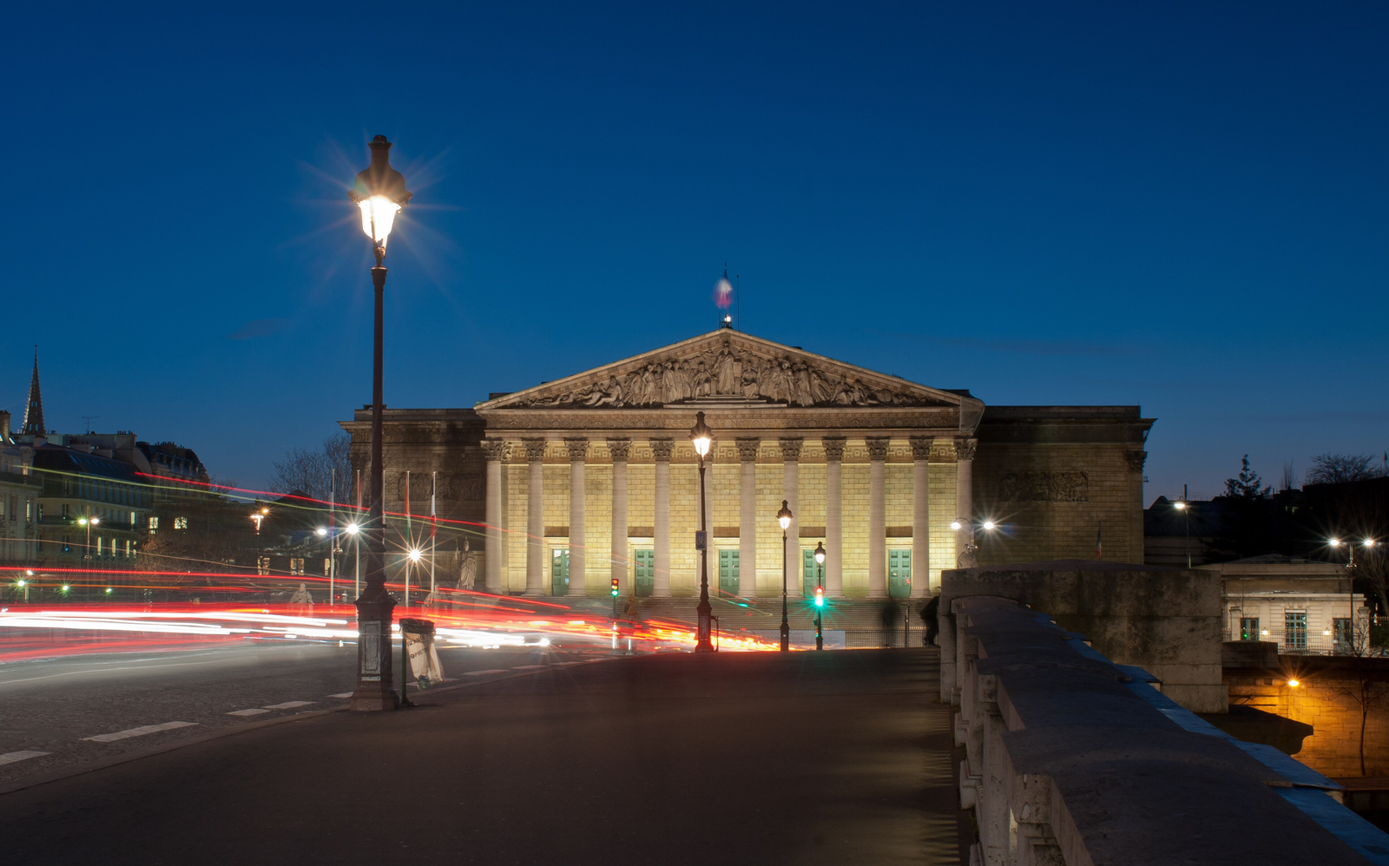fachada: (358, 280, 1226, 692), (9, 347, 232, 601), (1198, 510, 1389, 699)
poste: (326, 143, 434, 718), (666, 399, 736, 657), (770, 492, 807, 649), (805, 534, 849, 657)
